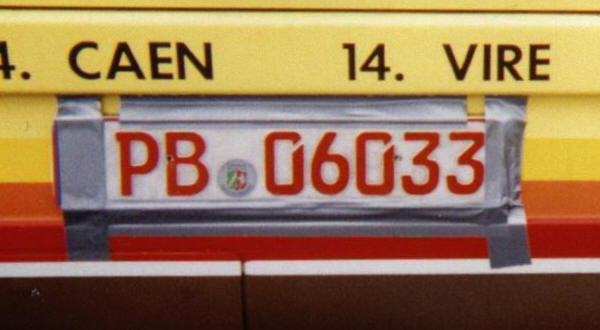license_plate: (104, 118, 486, 207)
